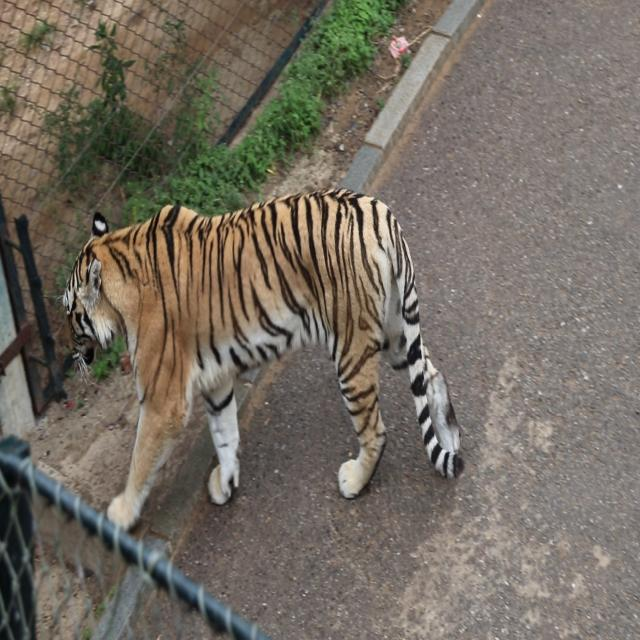Tiger: (52, 213, 470, 525)
